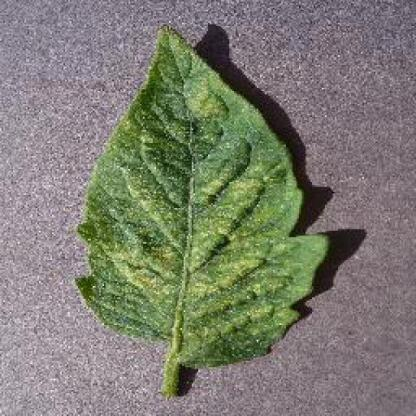Tomato_Spider_Mites: (77, 26, 330, 362)
